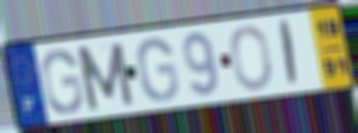9: (180, 29, 221, 100)
G: (39, 47, 85, 116), (135, 35, 181, 104)
I: (279, 17, 300, 90)
M: (73, 40, 137, 114)
O: (228, 23, 275, 93)
